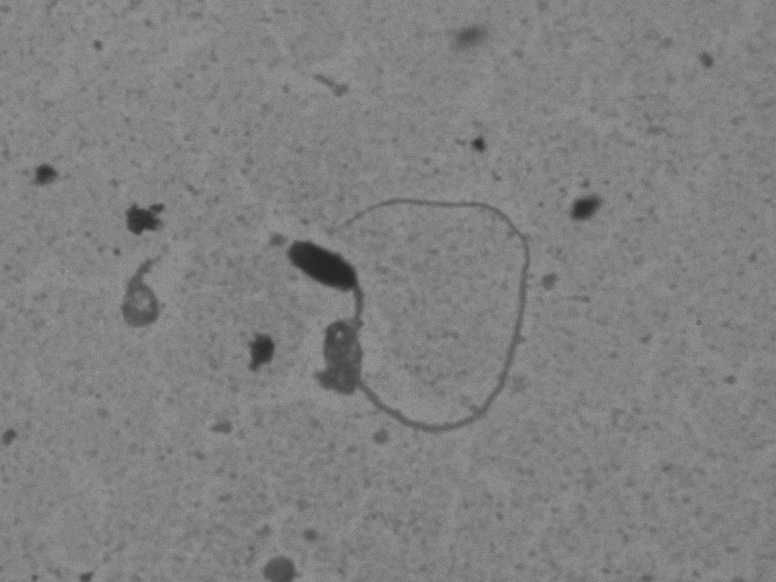Abnormal: (269, 166, 541, 450)
